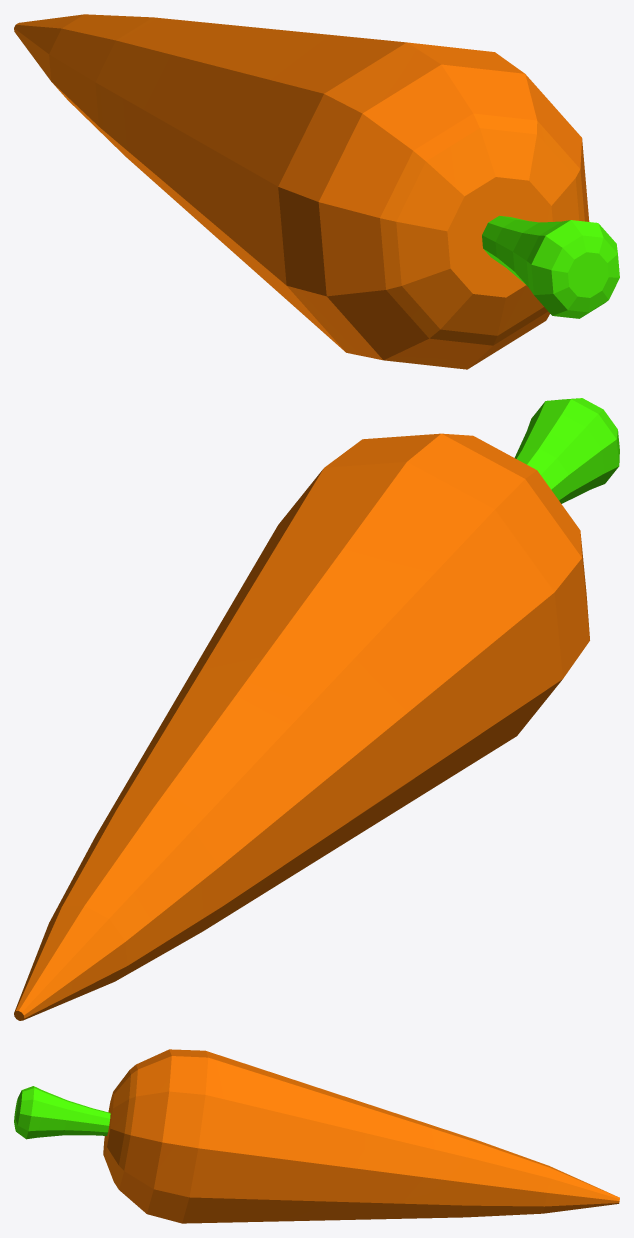
File: Carrot.fbx
3 renders of one model, top to bottom at view 1: azimuth 30°, elevation 25°; view 2: azimuth 150°, elevation 25°; view 3: azimuth 270°, elevation 25°, orthographic. The views are drawn at different scales.
Parts seen in each view (by area): view 1: Carrot; view 2: Carrot; view 3: Carrot.
Part boxes in pixels (x1,y1,x2,y2): Carrot: (14, 14, 619, 369); Carrot: (14, 398, 619, 1020); Carrot: (14, 1049, 619, 1223).
Bounding box in the file's own units: 3.85 × 4.04 × 13.8.
